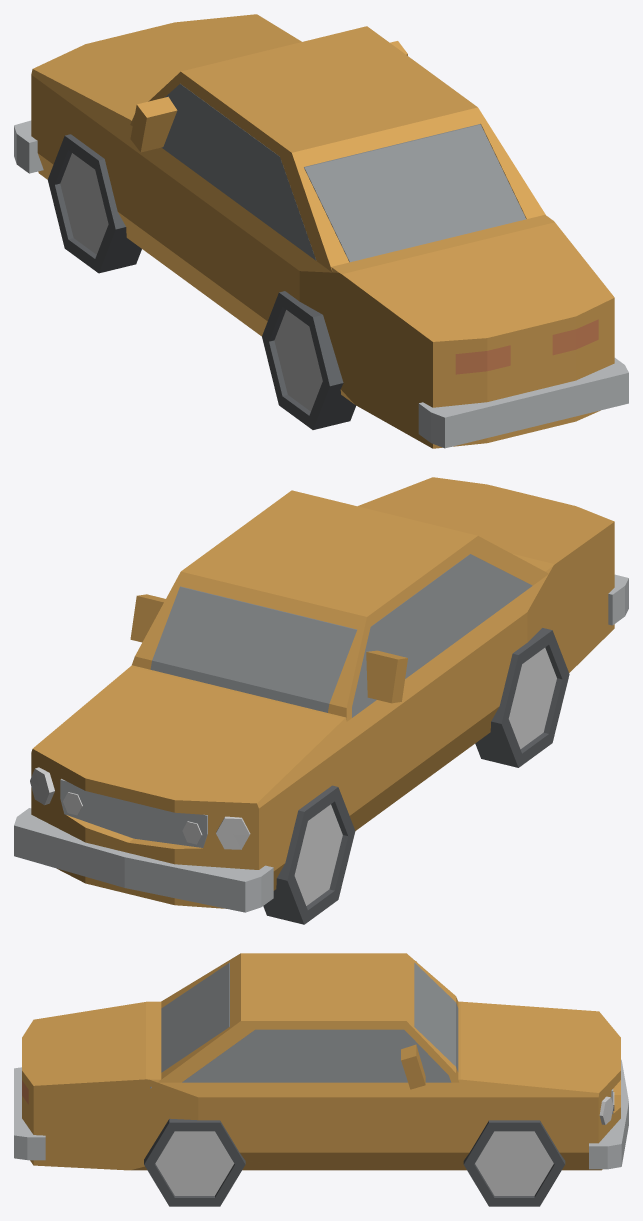
Rendered from car6.glb.
The picture shows the model from 3 angles, top to bottom: view 1: azimuth 30°, elevation 25°; view 2: azimuth 150°, elevation 25°; view 3: azimuth 270°, elevation 25°; orthographic projection. The views are drawn at different scales.
Visible parts, largest first — view 1: Mesh_Mesh_head_geo.001_lambert2SG.001; view 2: Mesh_Mesh_head_geo.001_lambert2SG.001; view 3: Mesh_Mesh_head_geo.001_lambert2SG.001.
Part boxes in pixels (<box>): Mesh_Mesh_head_geo.001_lambert2SG.001: <box>14,14,628,448</box>; Mesh_Mesh_head_geo.001_lambert2SG.001: <box>14,477,628,924</box>; Mesh_Mesh_head_geo.001_lambert2SG.001: <box>14,953,628,1206</box>.
Bounding box in the file's own units: 3.47 × 3 × 9.49.
